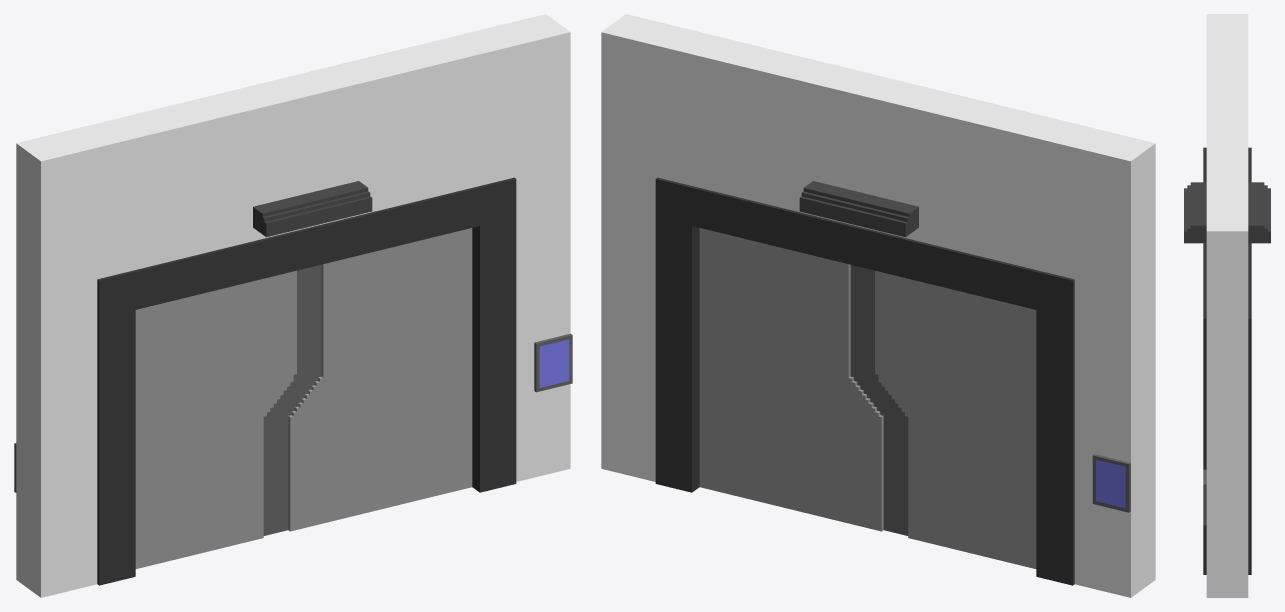
The model's file is Operating_room_Door2-3.fbx.
The picture shows the model from 3 angles, left to right: view 1: azimuth 30°, elevation 25°; view 2: azimuth 150°, elevation 25°; view 3: azimuth 270°, elevation 25°; orthographic projection. The views are drawn at different scales.
Visible parts, largest first — view 1: Operating room Door2-3.002, Operating room Door2-3.008, Operating room Door2-3.001, Operating room Door2-3.000, Operating room Door2-3.009, Operating room Door2-3.010; view 2: Operating room Door2-3.002, Operating room Door2-3.008, Operating room Door2-3.001, Operating room Door2-3.000, Operating room Door2-3.009, Operating room Door2-3.007; view 3: Operating room Door2-3.009, Operating room Door2-3.002, Operating room Door2-3.000.
Boxes of the visible parts, x1=… form: Operating room Door2-3.002: x1=73, y1=28, x2=516, y2=585; Operating room Door2-3.008: x1=275, y1=228, x2=472, y2=533; Operating room Door2-3.001: x1=135, y1=268, x2=308, y2=568; Operating room Door2-3.000: x1=14, y1=129, x2=97, y2=597; Operating room Door2-3.009: x1=490, y1=14, x2=572, y2=481; Operating room Door2-3.010: x1=539, y1=339, x2=569, y2=387; Operating room Door2-3.002: x1=655, y1=28, x2=1098, y2=585; Operating room Door2-3.008: x1=699, y1=228, x2=896, y2=533; Operating room Door2-3.001: x1=863, y1=268, x2=1036, y2=568; Operating room Door2-3.000: x1=1074, y1=129, x2=1155, y2=597; Operating room Door2-3.009: x1=601, y1=14, x2=681, y2=481; Operating room Door2-3.007: x1=1096, y1=459, x2=1125, y2=508; Operating room Door2-3.009: x1=1203, y1=208, x2=1248, y2=597; Operating room Door2-3.002: x1=1184, y1=37, x2=1270, y2=574; Operating room Door2-3.000: x1=1206, y1=14, x2=1248, y2=36.
Size of the model in its own units: 1600 by 1260 by 270.
